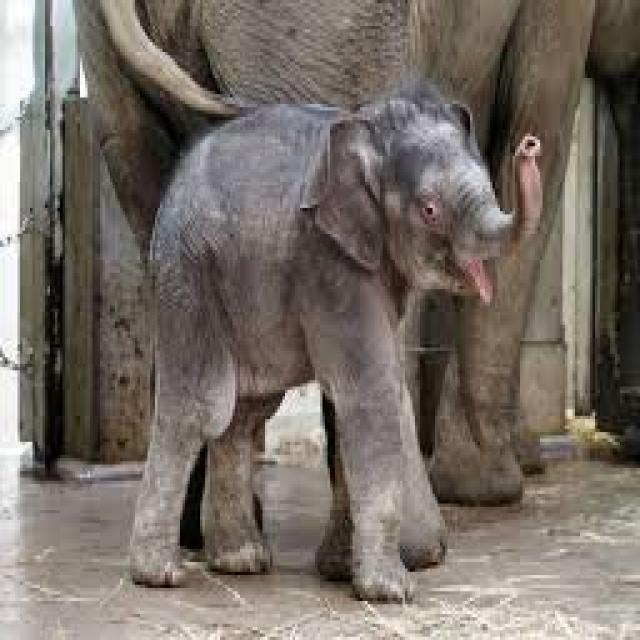elephant: (130, 91, 542, 598)
